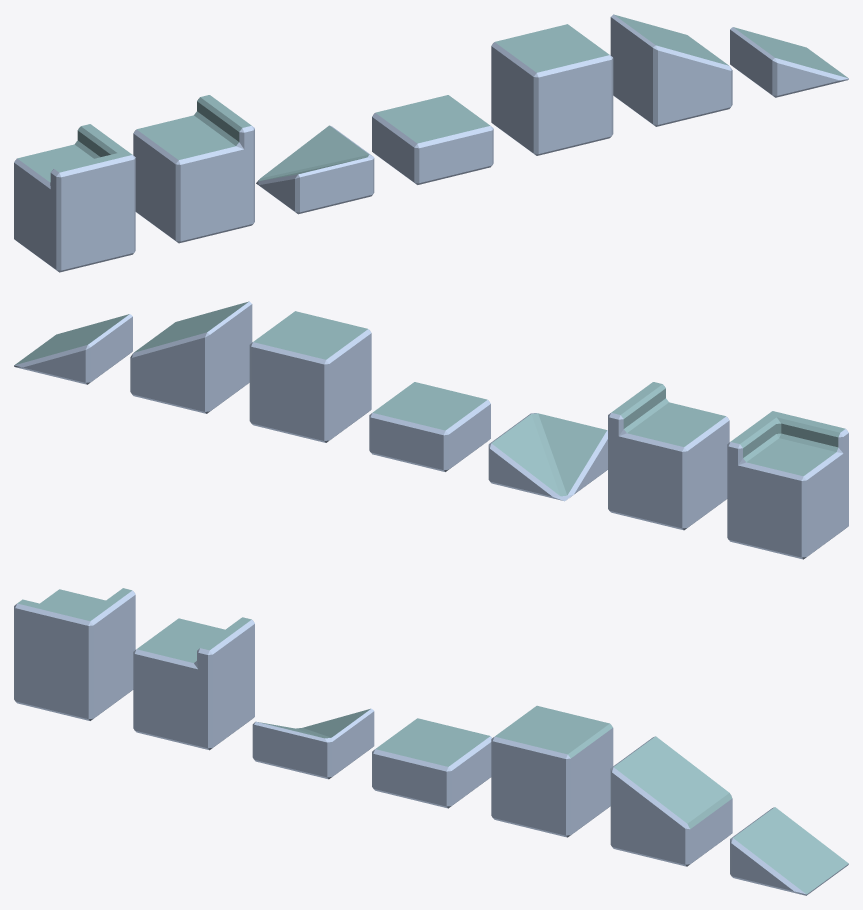
The model's file is blocks-v1.glb.
3 views of the same model, one above another, from view 1: azimuth 30°, elevation 25°; view 2: azimuth 150°, elevation 25°; view 3: azimuth 330°, elevation 25° (orthographic).
Visible parts, largest first — view 1: BlockWallCorner, BlockWall, Block, RampTop, BlockShort, RampLowerCorner, RampBottom; view 2: BlockWallCorner, BlockWall, Block, RampTop, BlockShort, RampLowerCorner, RampBottom; view 3: BlockWallCorner, BlockWall, Block, RampTop, BlockShort, RampBottom, RampLowerCorner.
Boxes of the visible parts, x1=… form: BlockWallCorner: x1=14, y1=124, x2=135, y2=272; BlockWall: x1=133, y1=95, x2=254, y2=243; Block: x1=491, y1=24, x2=613, y2=155; RampTop: x1=610, y1=14, x2=732, y2=126; BlockShort: x1=372, y1=95, x2=493, y2=184; RampLowerCorner: x1=256, y1=125, x2=374, y2=214; RampBottom: x1=730, y1=27, x2=848, y2=97; BlockWallCorner: x1=727, y1=411, x2=848, y2=559; BlockWall: x1=608, y1=382, x2=729, y2=530; Block: x1=249, y1=311, x2=371, y2=442; RampTop: x1=130, y1=301, x2=252, y2=413; BlockShort: x1=369, y1=382, x2=490, y2=471; RampLowerCorner: x1=488, y1=413, x2=607, y2=501; RampBottom: x1=14, y1=314, x2=132, y2=384; BlockWallCorner: x1=14, y1=588, x2=135, y2=720; BlockWall: x1=133, y1=617, x2=254, y2=750; Block: x1=491, y1=705, x2=613, y2=837; RampTop: x1=610, y1=736, x2=732, y2=866; BlockShort: x1=372, y1=718, x2=492, y2=808; RampBottom: x1=730, y1=807, x2=848, y2=895; RampLowerCorner: x1=252, y1=708, x2=374, y2=779.
Size of what is drawn, in the model's own units: 19.93 by 2.4 by 2.
